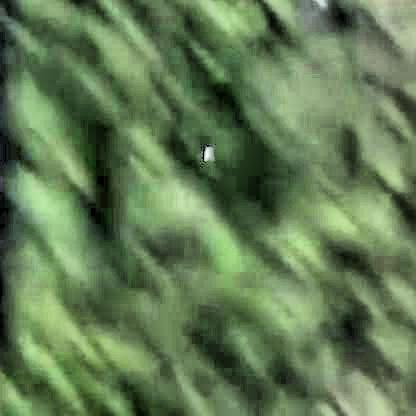golfball: (201, 142, 212, 158)
